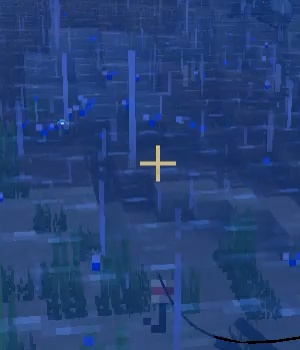down: (140, 271, 179, 331)
